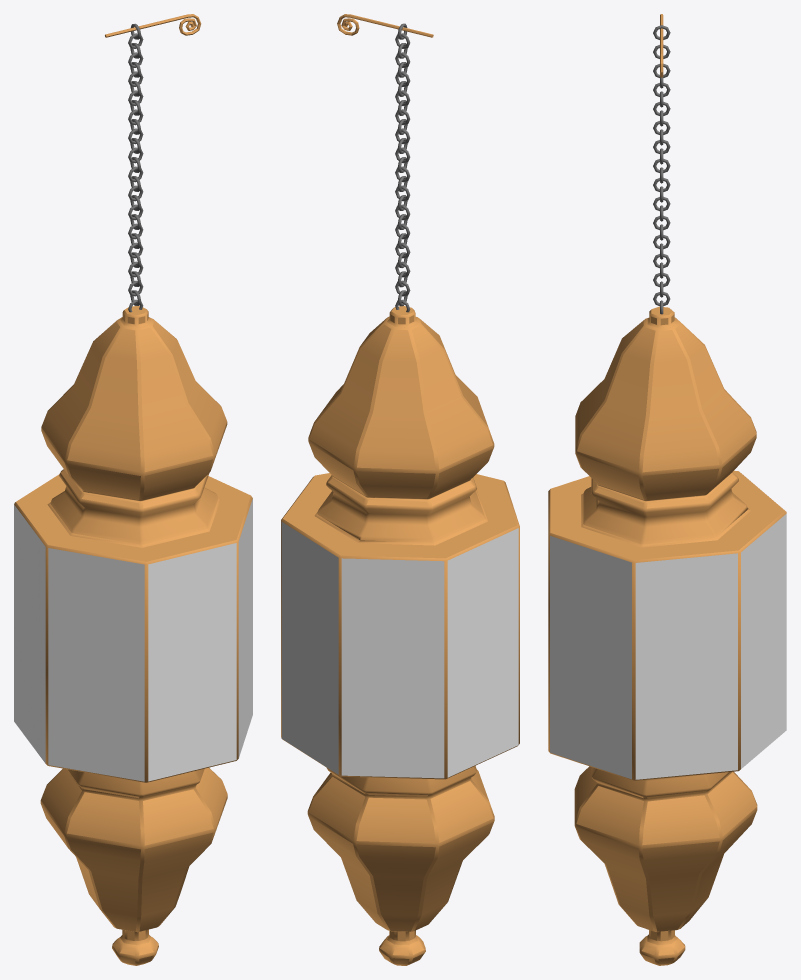
File: Lamp Plafond_00_B.fbx
The picture shows the model from 3 angles, left to right: view 1: azimuth 30°, elevation 25°; view 2: azimuth 150°, elevation 25°; view 3: azimuth 270°, elevation 25°; orthographic projection.
Parts seen in each view (by area): view 1: Lamp Plafond_00_B; view 2: Lamp Plafond_00_B; view 3: Lamp Plafond_00_B.
Part boxes in pixels (box(x1,y1,x2,y2)): Lamp Plafond_00_B: box(14, 14, 252, 965); Lamp Plafond_00_B: box(281, 14, 519, 965); Lamp Plafond_00_B: box(548, 14, 786, 965).
Bounding box in the file's own units: 0.2803 × 1.22 × 0.2812.
